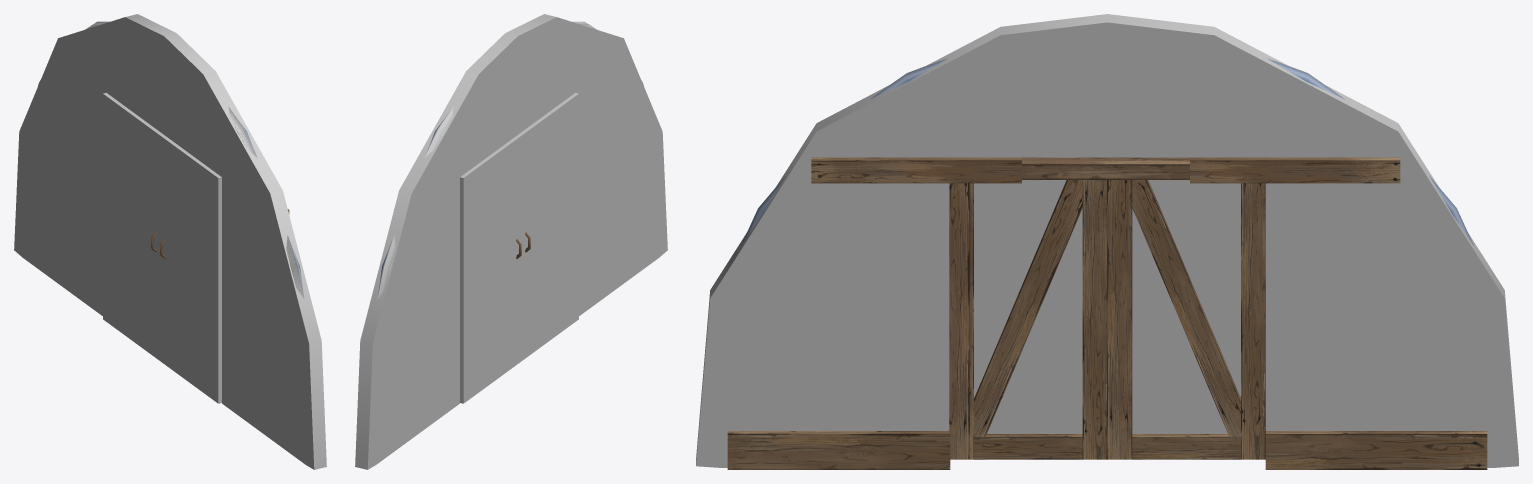
File: greenHouse_front02.FBX
3 views of the same model, side by side, from view 1: azimuth 30°, elevation 25°; view 2: azimuth 150°, elevation 25°; view 3: azimuth 270°, elevation 25° (orthographic). The views are drawn at different scales.
Visible parts, largest first — view 1: greenHouse_front02_COL, greenHouse_front02_doorR, greenHouse_front02_doorL, greenHouse_front02; view 2: greenHouse_front02_COL, greenHouse_front02_doorL, greenHouse_front02_doorR, greenHouse_front02; view 3: greenHouse_front02_COL, greenHouse_front02_doorL, greenHouse_front02_doorR, greenHouse_front02.
Boxes of the visible parts, x1,y1,x2,y2 form: greenHouse_front02_COL: (14,14,326,469); greenHouse_front02_doorR: (160,135,221,403); greenHouse_front02_doorL: (103,92,163,361); greenHouse_front02: (38,21,304,298); greenHouse_front02_COL: (355,14,667,469); greenHouse_front02_doorL: (460,135,521,403); greenHouse_front02_doorR: (518,92,578,361); greenHouse_front02: (377,21,643,298); greenHouse_front02_COL: (696,14,1518,467); greenHouse_front02_doorL: (1107,180,1265,459); greenHouse_front02_doorR: (949,180,1107,459); greenHouse_front02: (727,59,1487,469).
Bounding box in the file's own units: 25.63 × 311 × 520.
